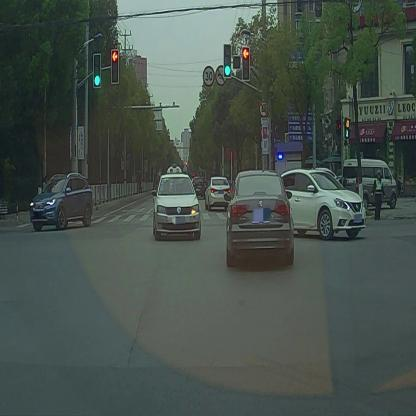Green Light: (92, 51, 102, 89), (224, 46, 232, 77)
